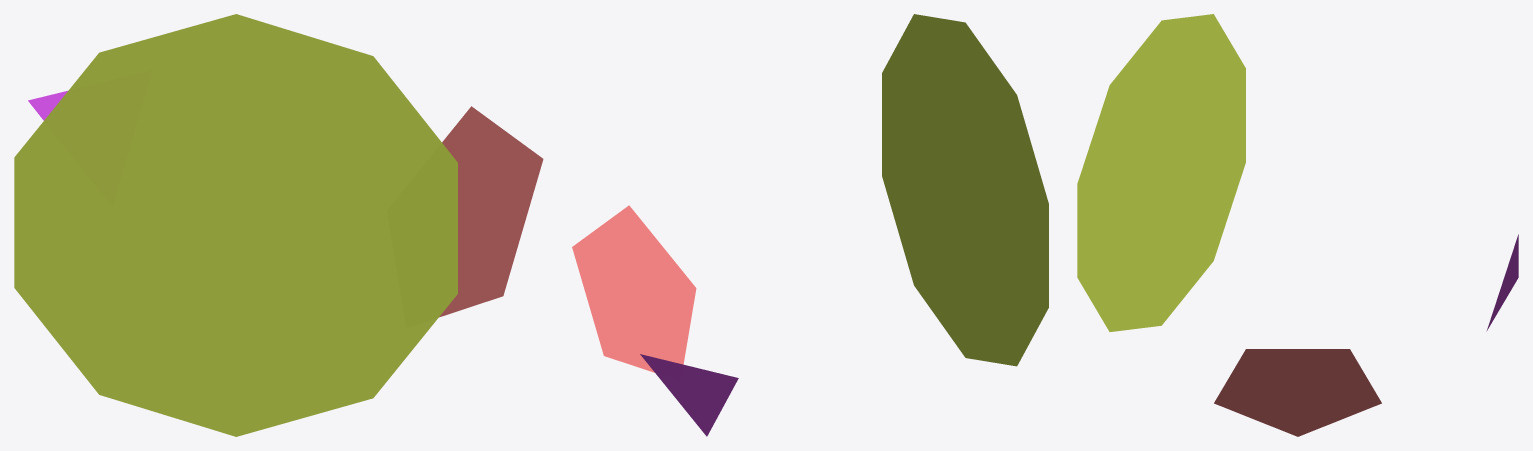
The model's file is SmallDodecicosidodecahedronF.obj.
3 views of the same model, side by side, from view 1: azimuth 30°, elevation 25°; view 2: azimuth 150°, elevation 25°; view 3: azimuth 270°, elevation 25° (orthographic). The views are drawn at different scales.
Bounding box in the file's own units: 4.24 × 3.43 × 4.24.
